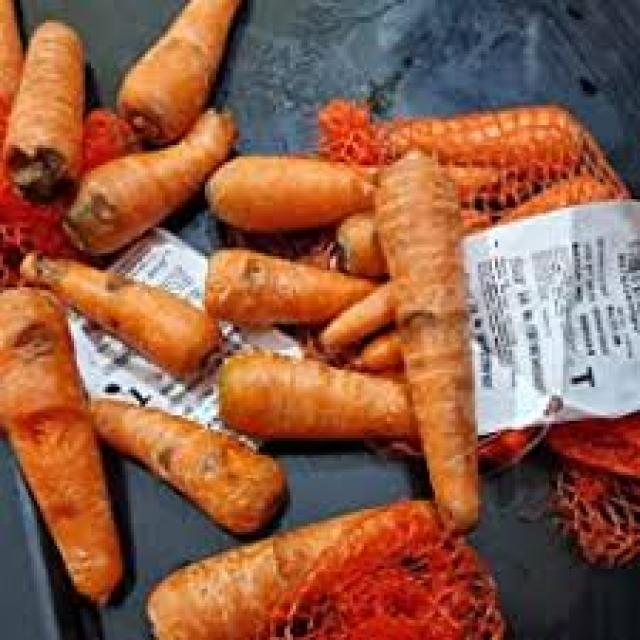Stale_Carrot: (0, 290, 122, 603)
